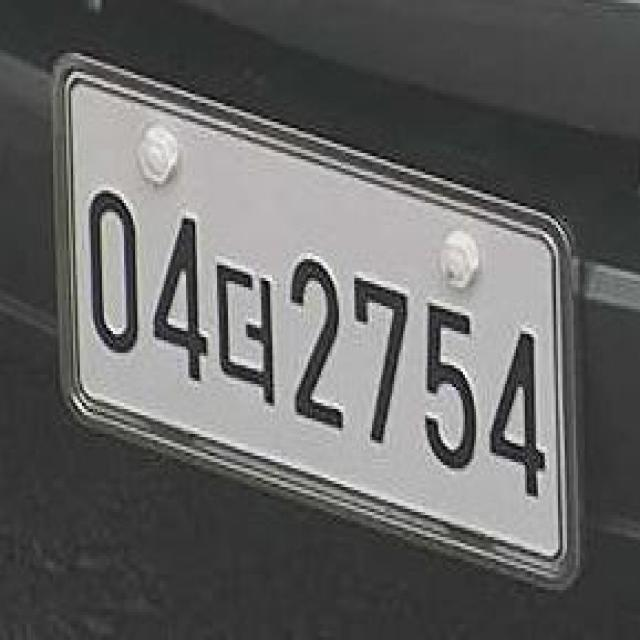illegal_plate: (53, 56, 570, 559)
